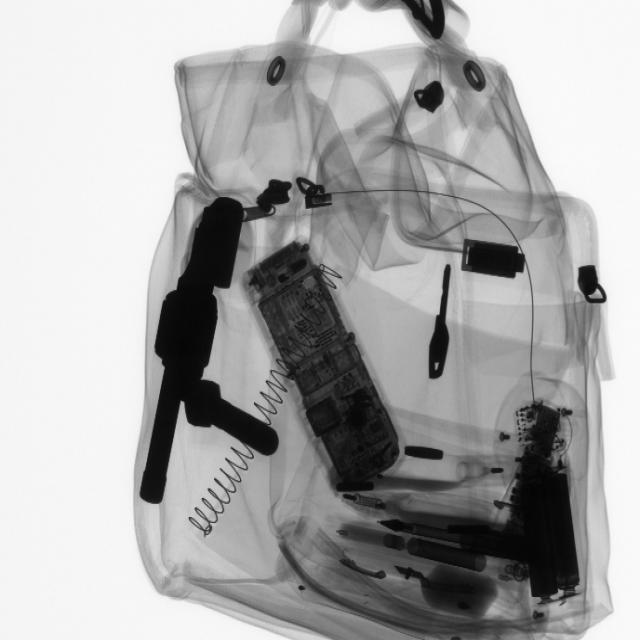GUN: (133, 193, 243, 513)
